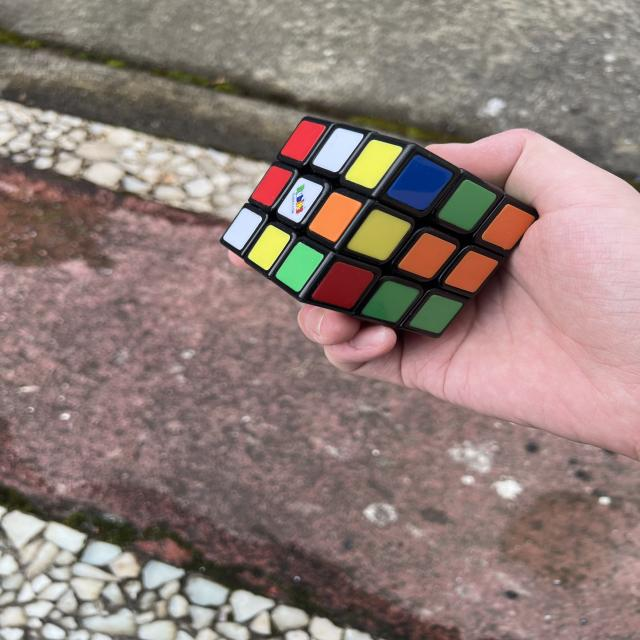blue: (386, 149, 454, 219)
center: (395, 225, 456, 288), (276, 172, 325, 227)
green: (435, 173, 498, 239), (361, 271, 420, 334), (408, 285, 464, 343), (273, 238, 325, 294)
orange: (306, 185, 364, 247), (479, 198, 536, 257), (444, 243, 499, 301)
red: (310, 252, 376, 321), (279, 113, 327, 167), (249, 160, 294, 210)
white: (311, 119, 365, 179), (221, 204, 264, 252)
yellow: (345, 200, 413, 272), (343, 130, 404, 196), (245, 221, 292, 272)
